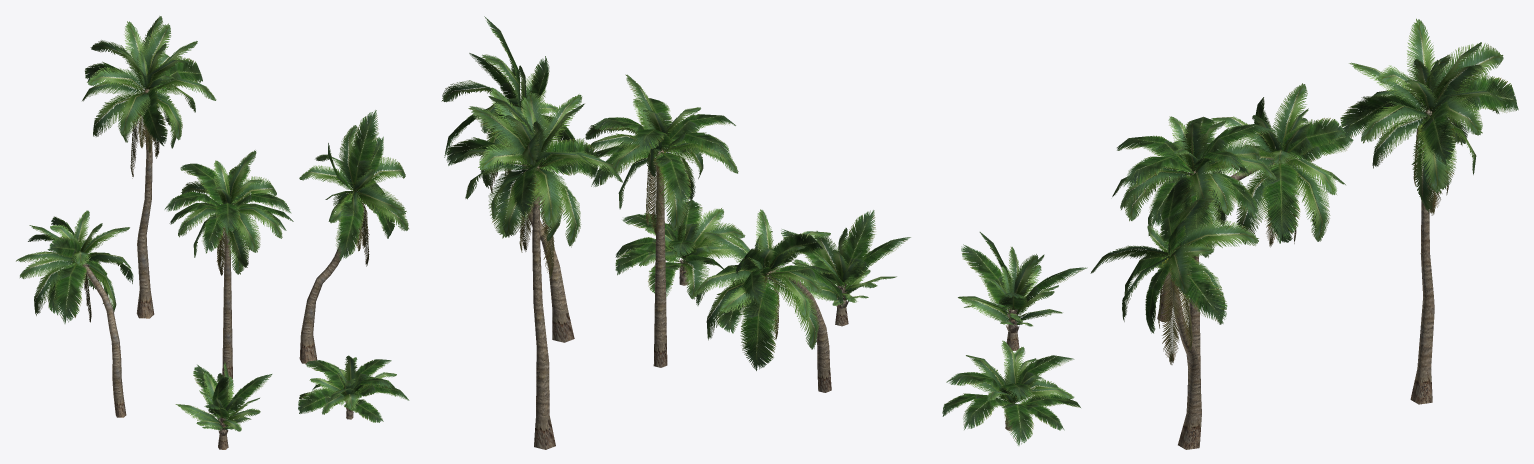
File: palmeras.obj
3 renders of one model, left to right at view 1: azimuth 30°, elevation 25°; view 2: azimuth 150°, elevation 25°; view 3: azimuth 270°, elevation 25°, orthographic. The views are drawn at different scales.
Parts seen in each view (by area): view 1: polySurface342, polySurface335, polySurface336, polySurface343, polySurface338, polySurface339, polySurface290_polySurface62, polySurface234_polySurface63, polySurface262_polySurface141, polySurface229_polySurface36; view 2: polySurface342, polySurface343, polySurface335, polySurface338, polySurface336, polySurface339, polySurface290_polySurface62, polySurface229_polySurface36, polySurface262_polySurface141, polySurface234_polySurface63; view 3: polySurface342, polySurface335, polySurface343, polySurface336, polySurface338, polySurface339, polySurface290_polySurface62, polySurface262_polySurface141, polySurface229_polySurface36.
Part boxes in pixels (x1,y1,x2,y2): polySurface342: (82, 16, 216, 178); polySurface335: (164, 150, 293, 275); polySurface336: (299, 110, 408, 266); polySurface343: (16, 210, 133, 323); polySurface338: (298, 355, 409, 422); polySurface339: (175, 362, 272, 435); polySurface290_polySurface62: (136, 89, 154, 318); polySurface234_polySurface63: (82, 263, 126, 417); polySurface262_polySurface141: (299, 192, 352, 363); polySurface229_polySurface36: (222, 230, 232, 378); polySurface342: (446, 87, 622, 278); polySurface343: (693, 209, 844, 370); polySurface335: (584, 74, 738, 235); polySurface338: (615, 199, 745, 299); polySurface336: (441, 16, 575, 196); polySurface339: (781, 210, 910, 308); polySurface290_polySurface62: (532, 166, 555, 449); polySurface229_polySurface36: (653, 149, 667, 367); polySurface262_polySurface141: (522, 164, 574, 342); polySurface234_polySurface63: (766, 269, 831, 392); polySurface342: (1340, 18, 1518, 215); polySurface335: (1112, 116, 1277, 259); polySurface343: (1210, 83, 1353, 247); polySurface336: (1090, 172, 1258, 364); polySurface338: (942, 340, 1080, 445); polySurface339: (958, 232, 1087, 332); polySurface290_polySurface62: (1410, 108, 1434, 404); polySurface262_polySurface141: (1168, 257, 1201, 449); polySurface229_polySurface36: (1187, 171, 1200, 389).
Size of the model in its own units: 67.39 by 51.62 by 74.13.
2 materials, 2 textured.
